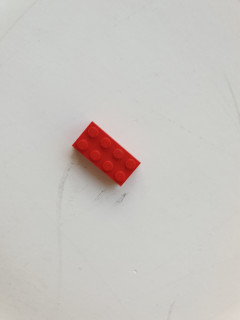2x4 red: (71, 120, 142, 187)
